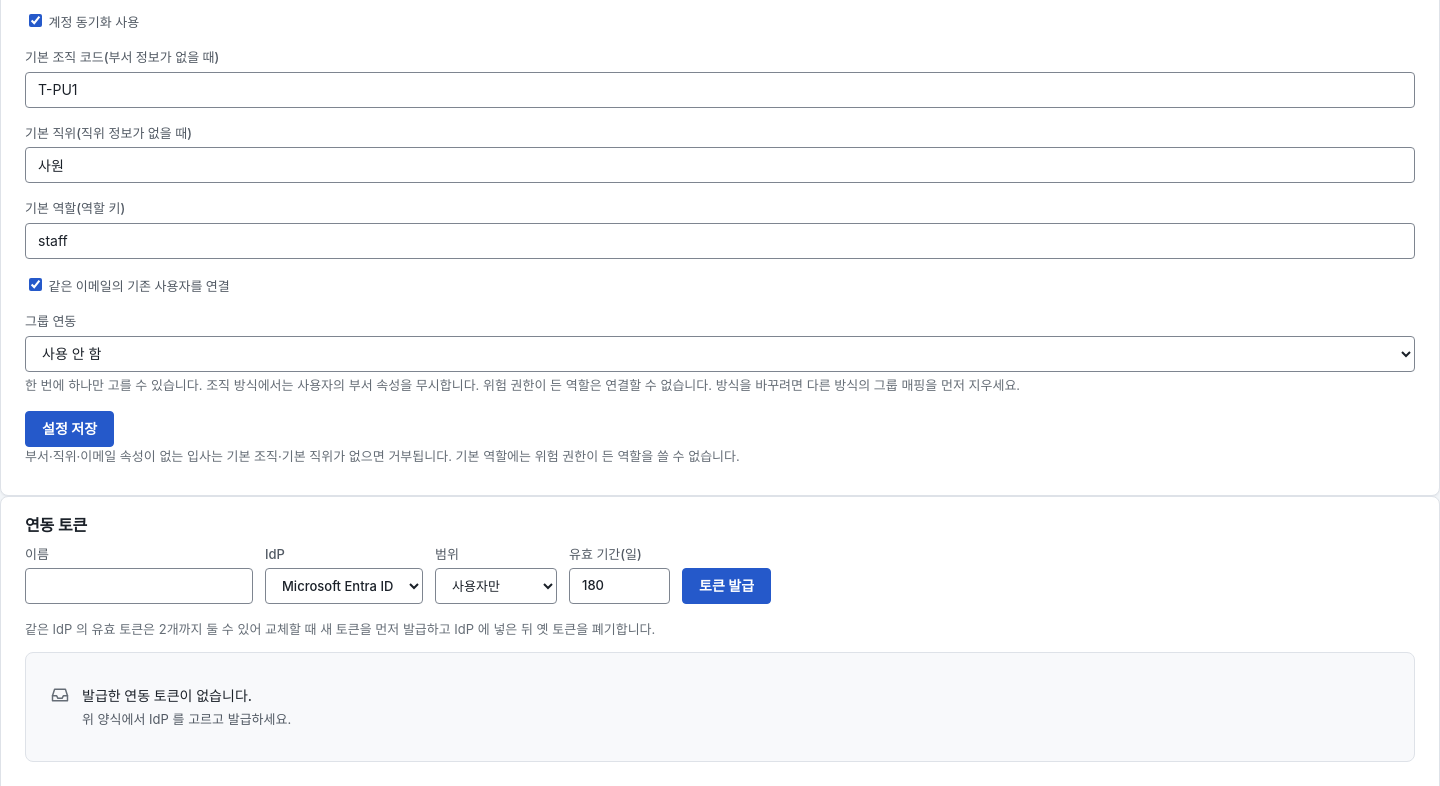
Test case: 계정 동기화(SCIM) 화면 › 발급하면 원문을 한 번만 보이고, 저장했습니다를 누르면 사라진다
(page scrolled)
In the field labelled "이름": [139, 586] box [25,568,253,604], type "엔트라 운영"
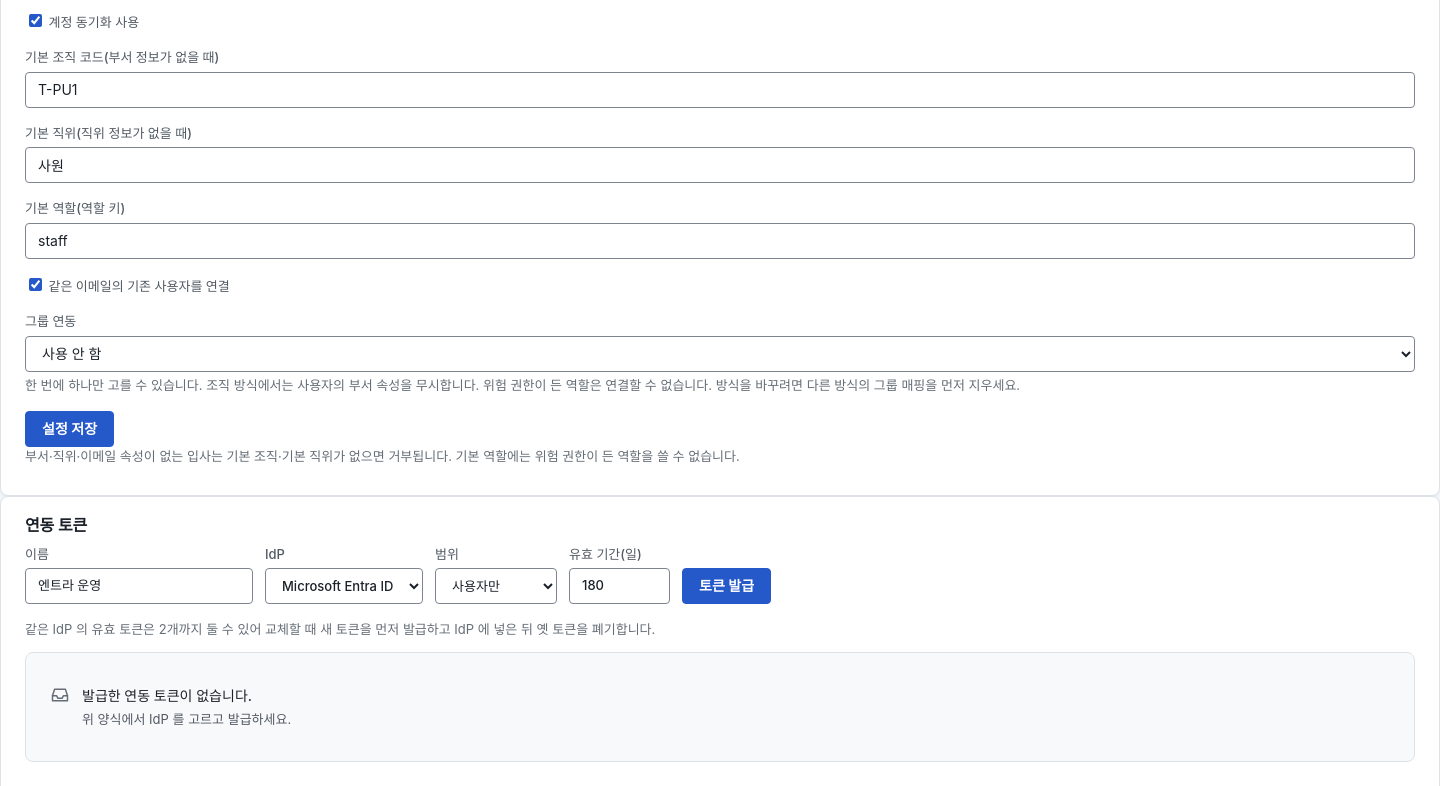
Click the button "토큰 발급": [727, 586] box [682,568,771,604]
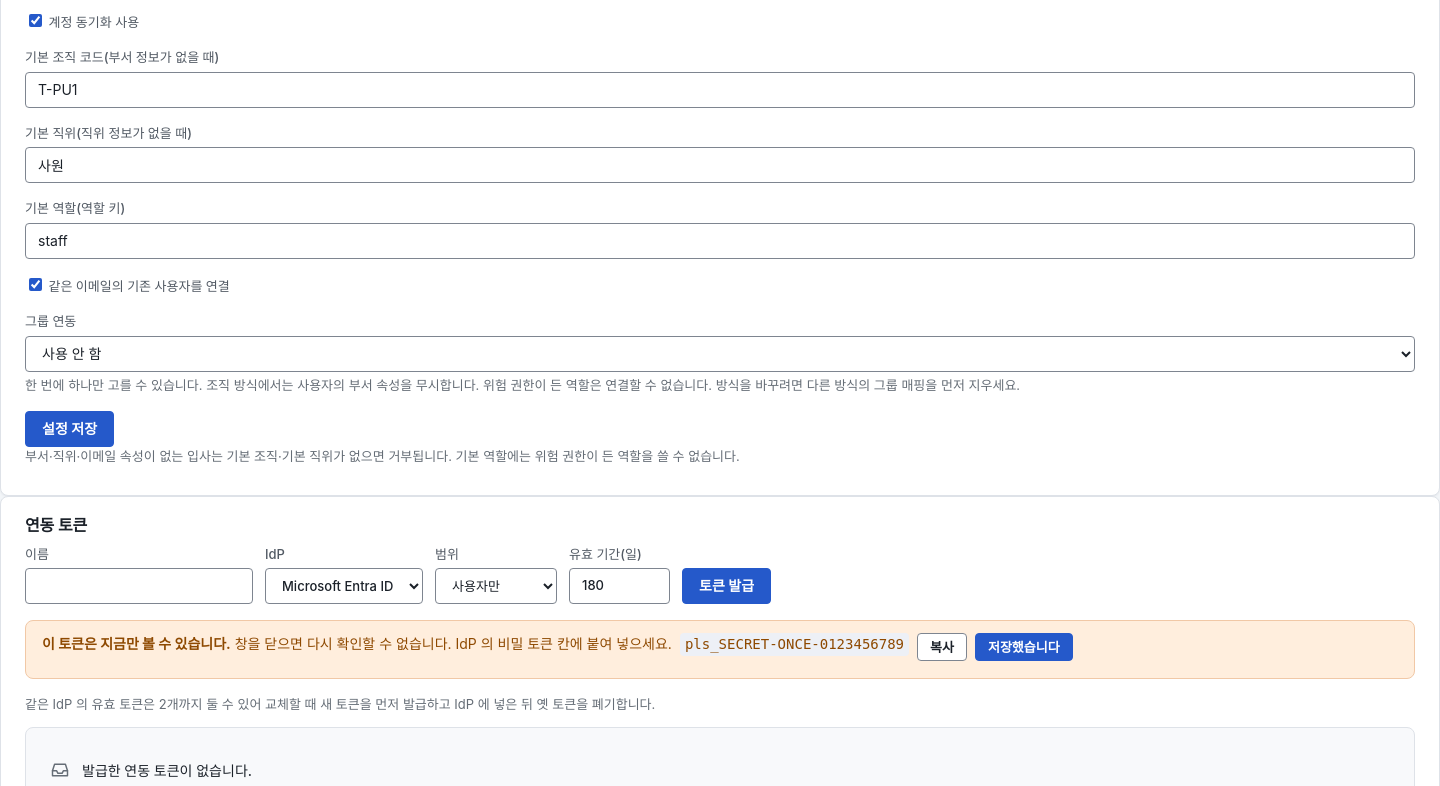
Check: the text with test id "scim-fresh-token" reads "pls_SECRET-ONCE-0123456789", box [685,636,904,652]
Click the button "저장했습니다": [1024, 647] box [975,633,1073,661]
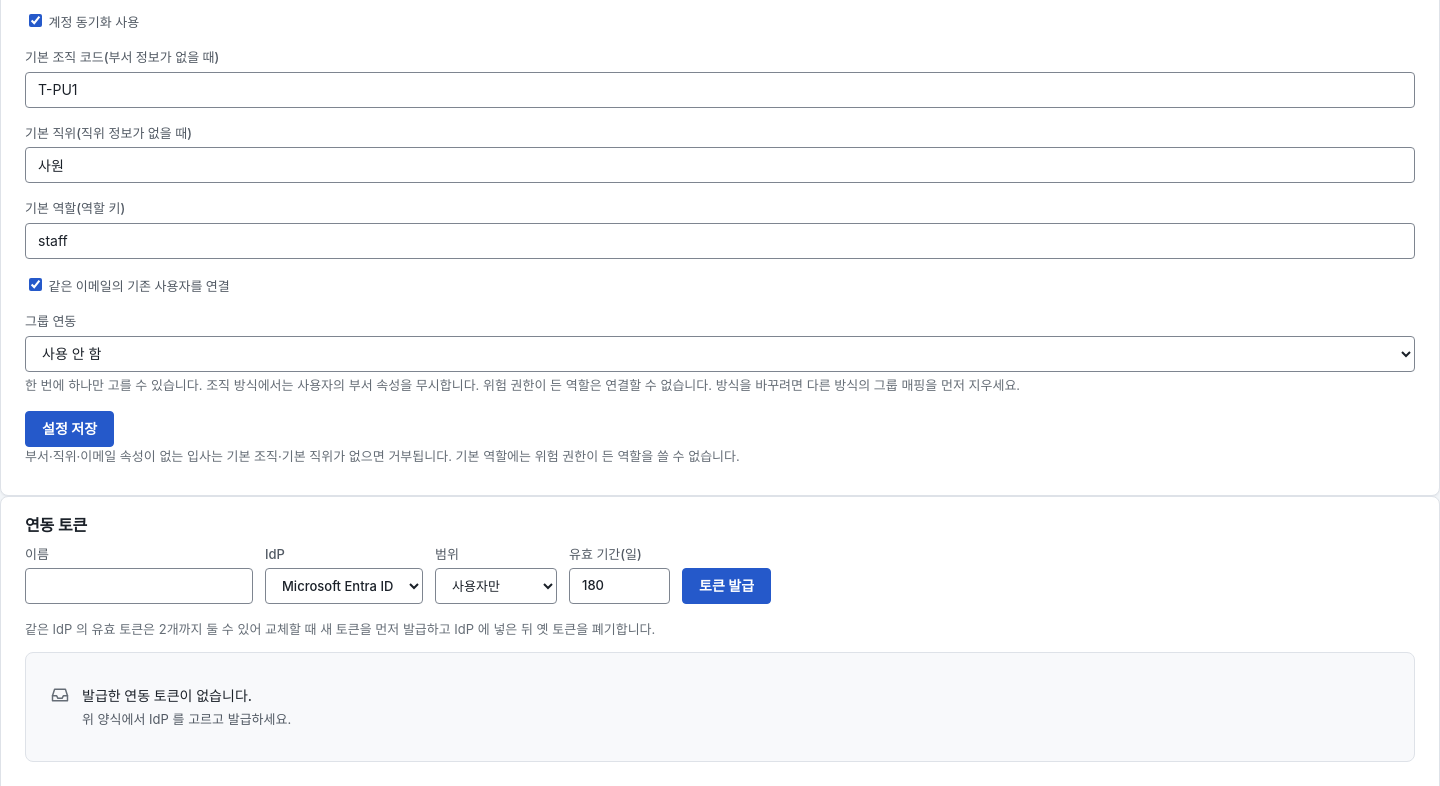
Check: the text with test id "scim-fresh-token" is gone
